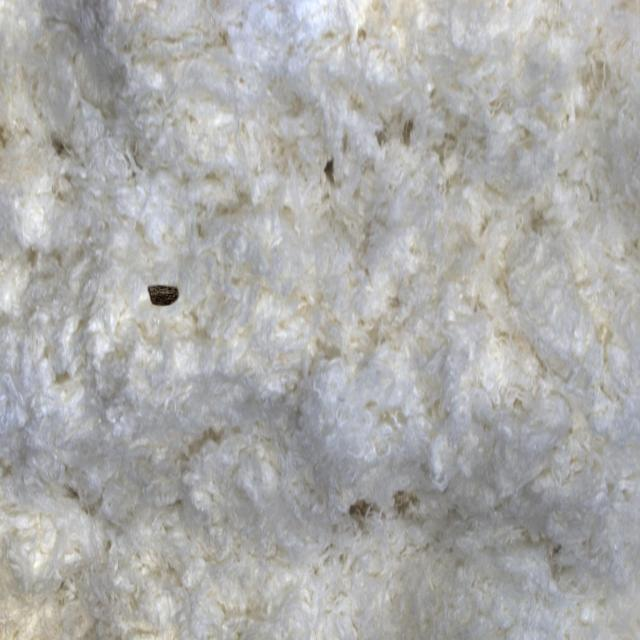dust: (124, 233, 207, 347)
